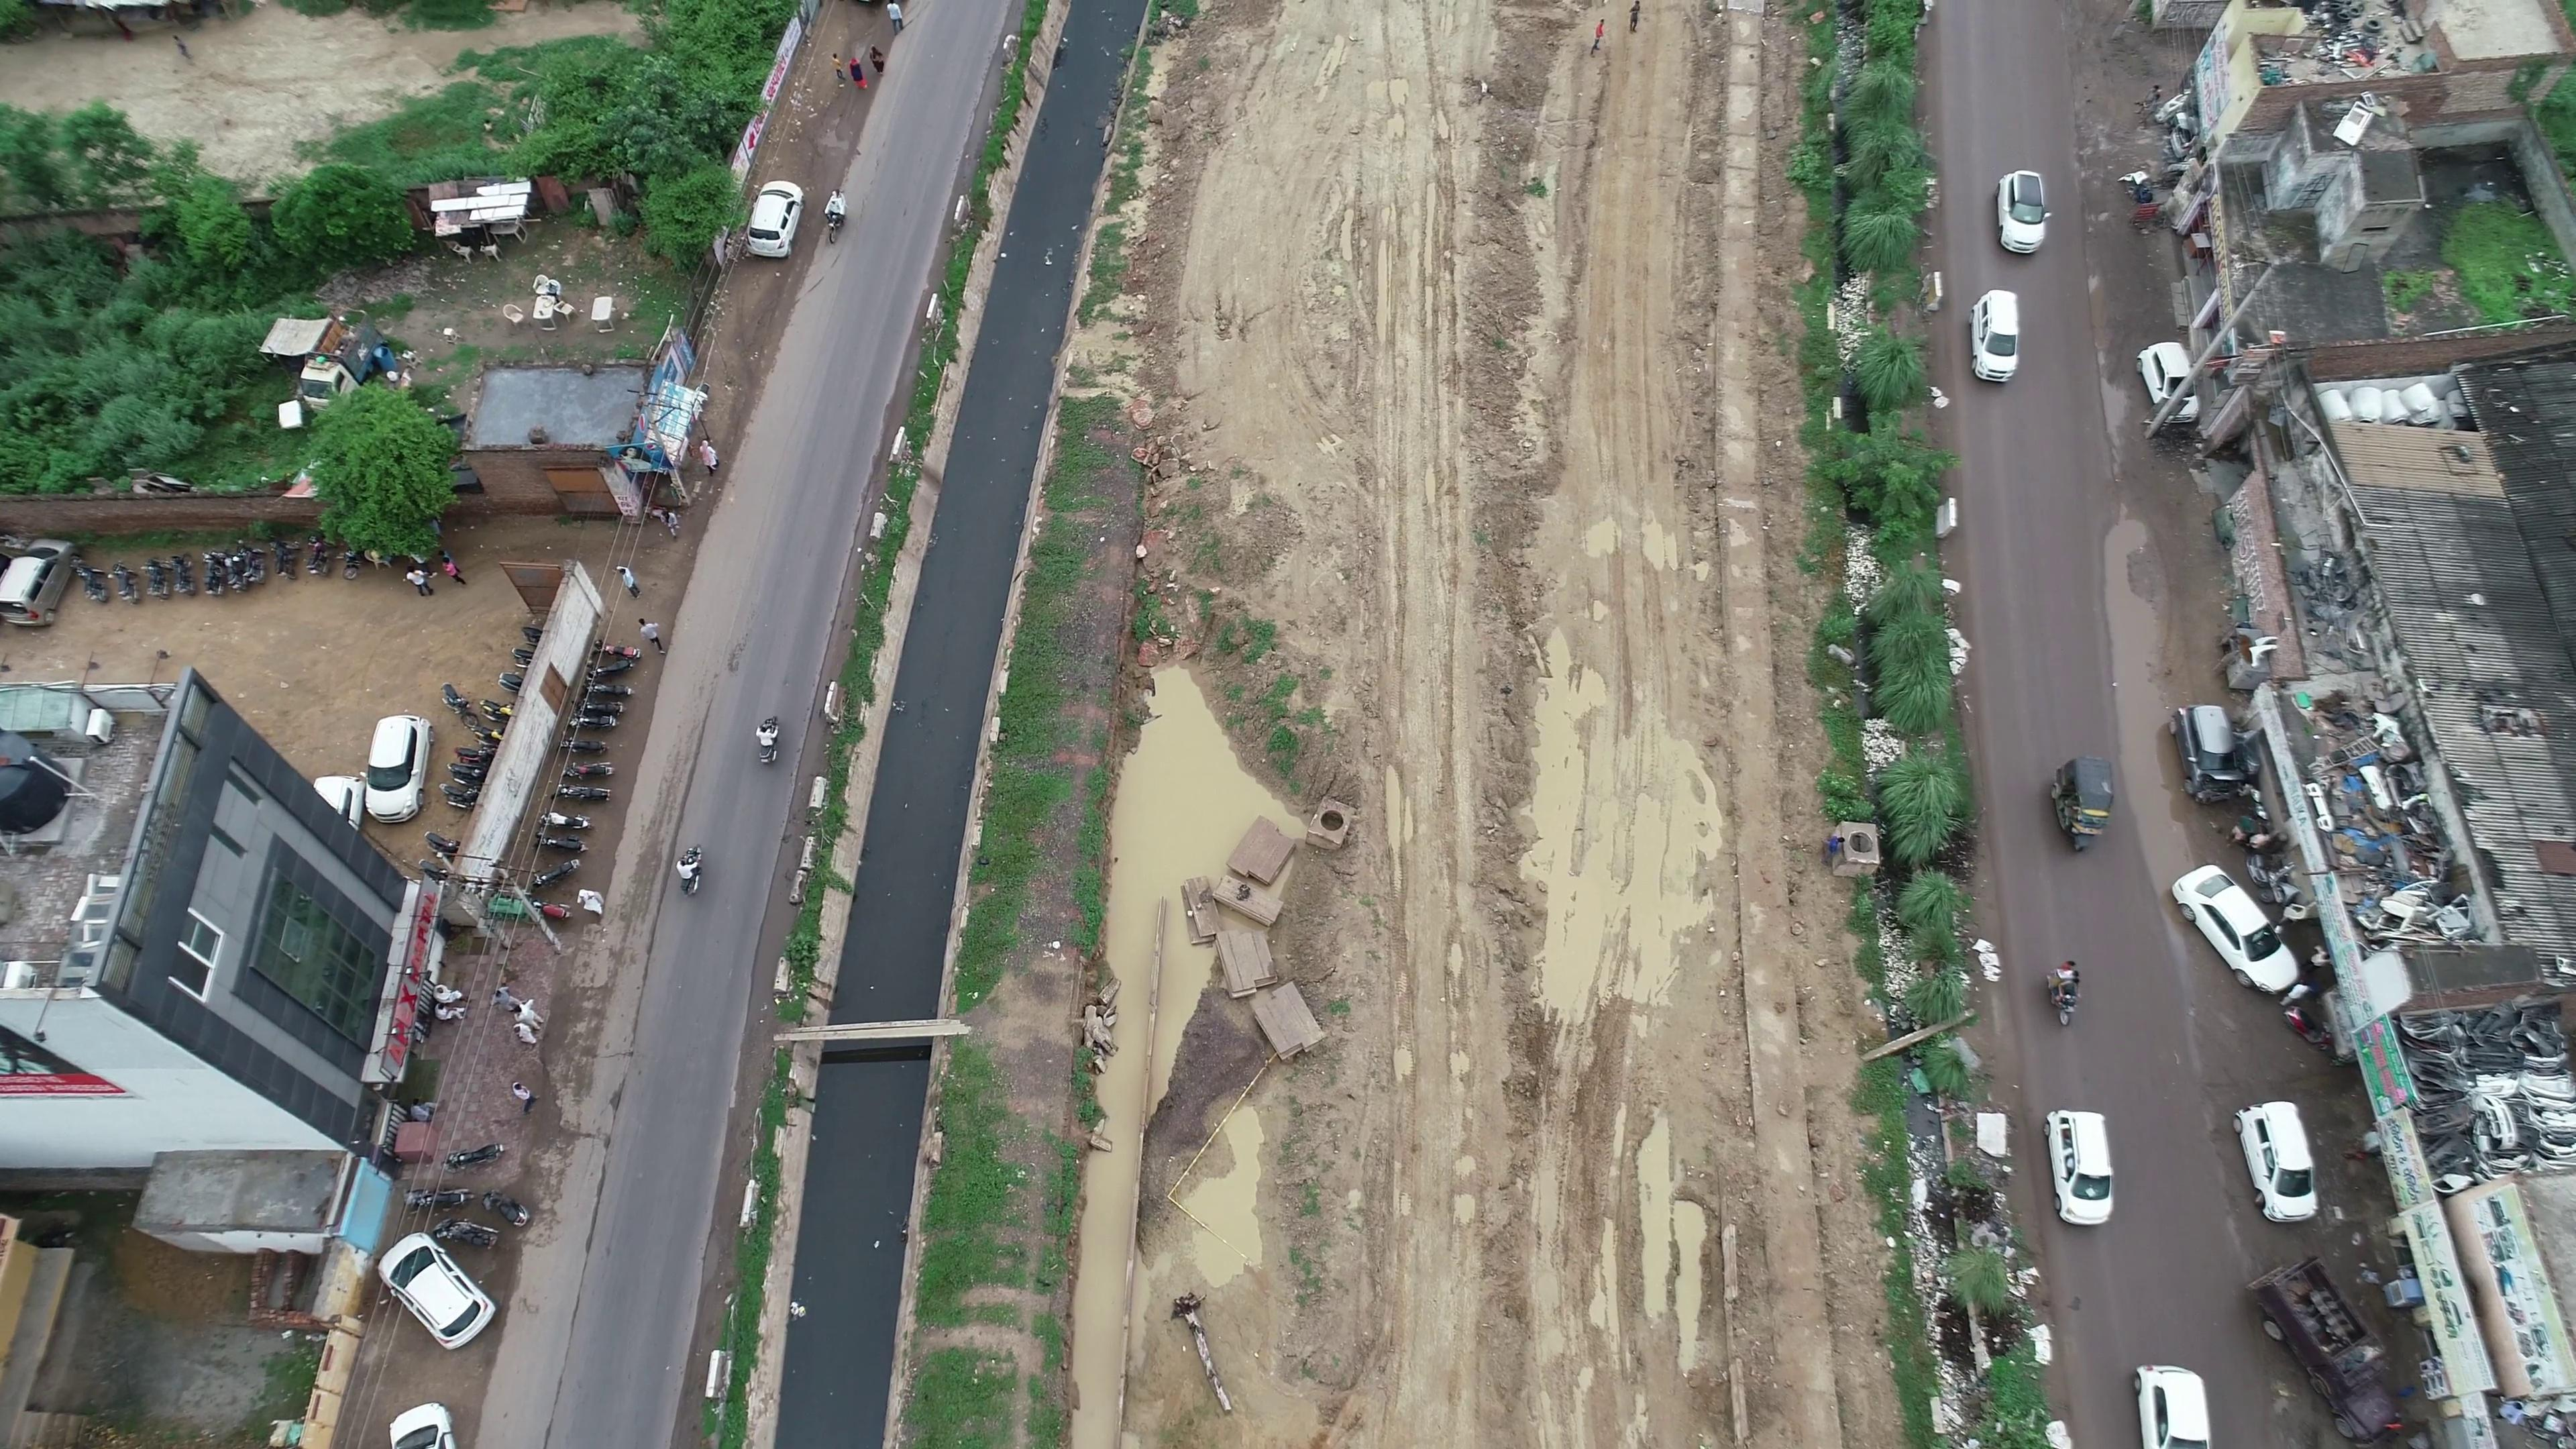Waterlogging: (2079, 502, 2196, 897)
